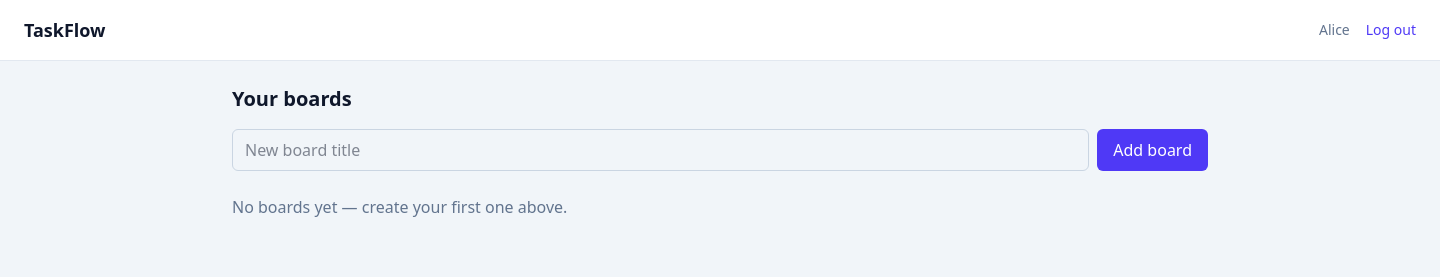
Test: BoardsPage › creates a board and shows it
Expected: the text "No boards yet — create your first one above." is shown, [232,196,567,218]
Type "New Board" into the field with placeholder "New board title" at [661, 150], box [232,129,1089,171]
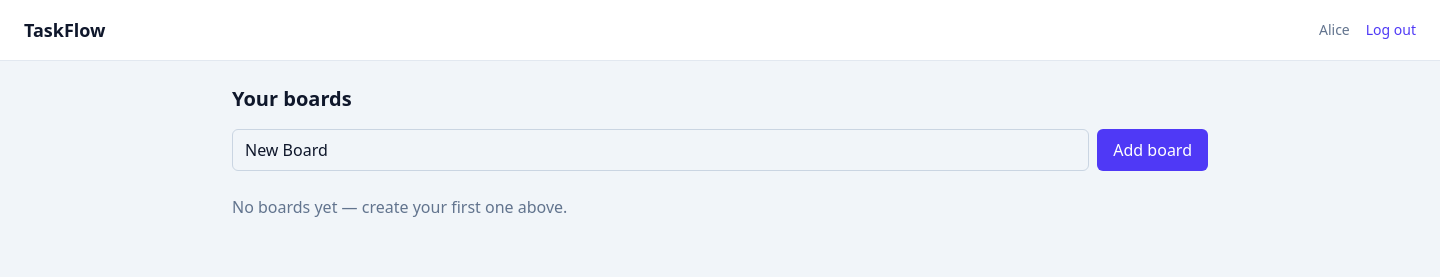
Click the button "Add board" at [1153, 150], box [1097,129,1208,171]
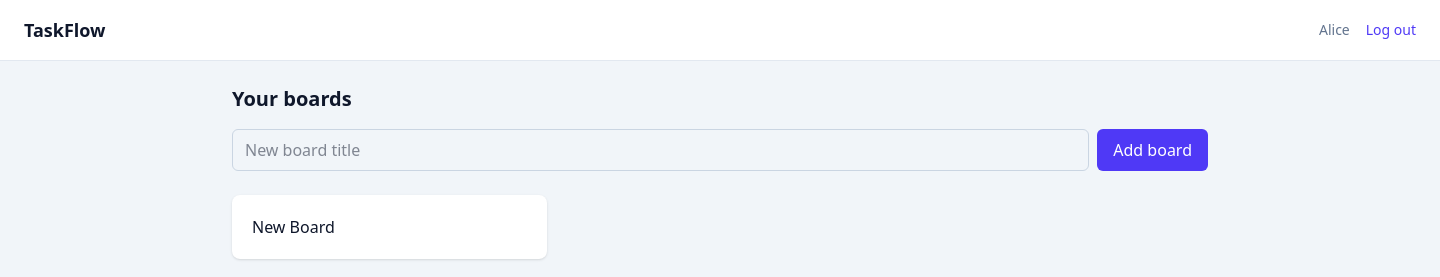
Expected: the link "New Board" is shown, [252,215,335,239]
